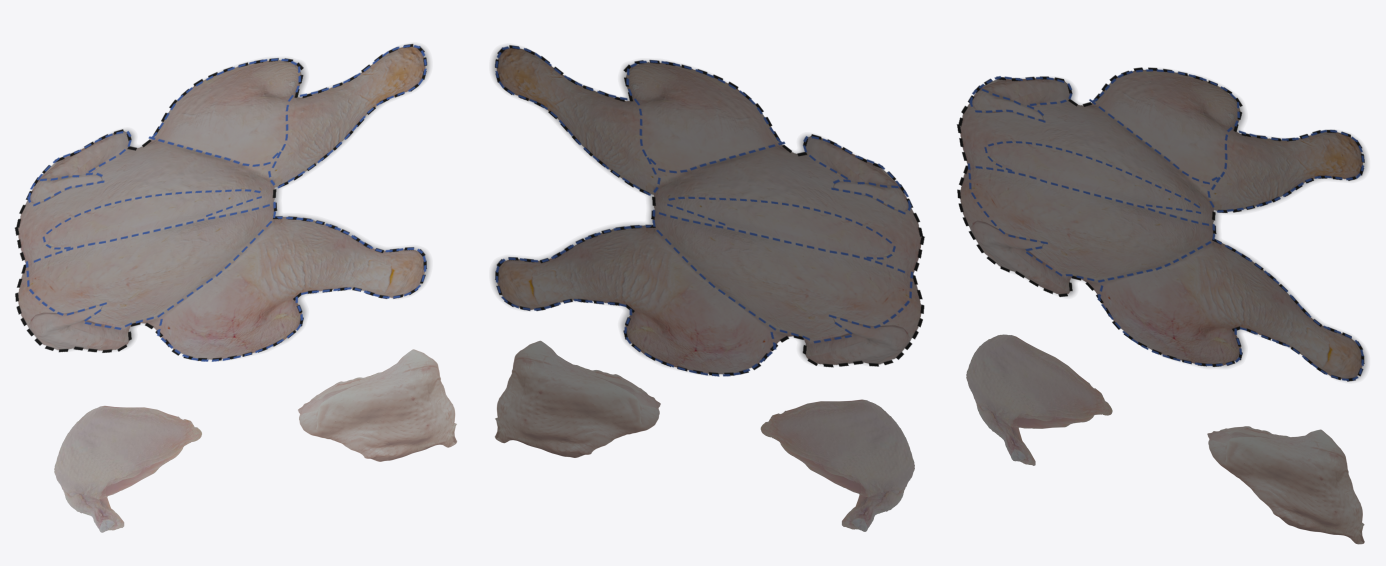
The model's file is game_Chicken2.glb.
The picture shows the model from 3 angles, left to right: view 1: azimuth 30°, elevation 25°; view 2: azimuth 150°, elevation 25°; view 3: azimuth 330°, elevation 25°; orthographic projection. The views are drawn at different scales.
Visible parts, largest first — view 1: Chicken, Thigh, Breast; view 2: Chicken, Thigh, Breast; view 3: Chicken, Thigh, Breast.
Boxes of the visible parts, x1=… form: Chicken: x1=14, y1=43, x2=429, y2=361; Thigh: x1=298, y1=349, x2=456, y2=461; Breast: x1=54, y1=405, x2=201, y2=532; Chicken: x1=492, y1=45, x2=924, y2=376; Thigh: x1=495, y1=340, x2=660, y2=457; Breast: x1=760, y1=399, x2=914, y2=531; Chicken: x1=957, y1=67, x2=1367, y2=381; Thigh: x1=1207, y1=426, x2=1364, y2=544; Breast: x1=966, y1=334, x2=1112, y2=465.
Bounding box in the file's own units: 2.48 × 2.36 × 0.1496.
3 materials, 3 textured.
